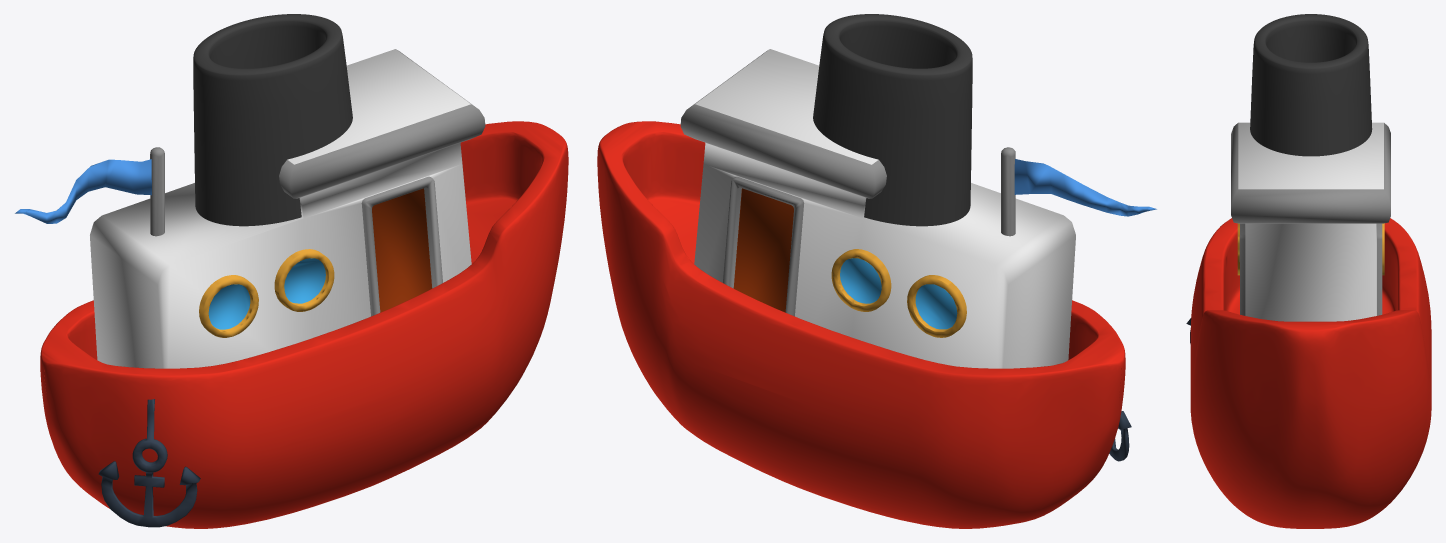
File: ship.glb
3 views of the same model, side by side, from view 1: azimuth 30°, elevation 25°; view 2: azimuth 150°, elevation 25°; view 3: azimuth 270°, elevation 25° (orthographic). The views are drawn at different scales.
Visible parts, largest first — view 1: hull, cabin, chimney, anchor, flag, flagpole; view 2: hull, cabin, chimney, flag, flagpole; view 3: hull, cabin, chimney.
Boxes of the visible parts, bbox=[...] form: hull: bbox=[40, 121, 568, 528]; cabin: bbox=[90, 49, 485, 368]; chimney: bbox=[193, 14, 352, 226]; anchor: bbox=[98, 399, 200, 527]; flag: bbox=[15, 159, 151, 223]; flagpole: bbox=[150, 147, 164, 236]; hull: bbox=[597, 121, 1125, 528]; cabin: bbox=[680, 49, 1075, 368]; chimney: bbox=[813, 14, 972, 226]; flag: bbox=[1014, 159, 1156, 216]; flagpole: bbox=[1001, 147, 1015, 236]; hull: bbox=[1190, 218, 1431, 528]; cabin: bbox=[1231, 122, 1390, 321]; chimney: bbox=[1250, 14, 1372, 156].
Size of the model in its own units: 7.33 by 5.86 by 2.93.
